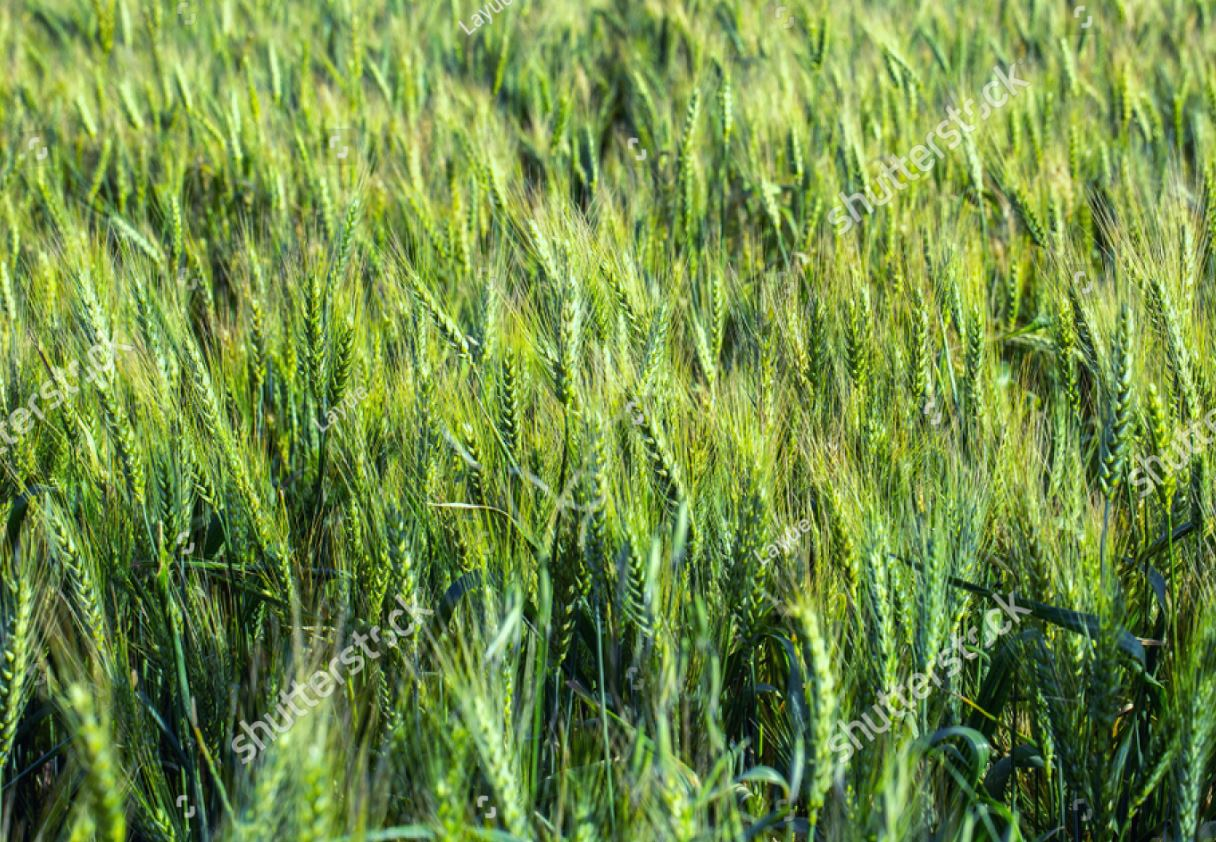Wheat: (290, 222, 778, 687)
